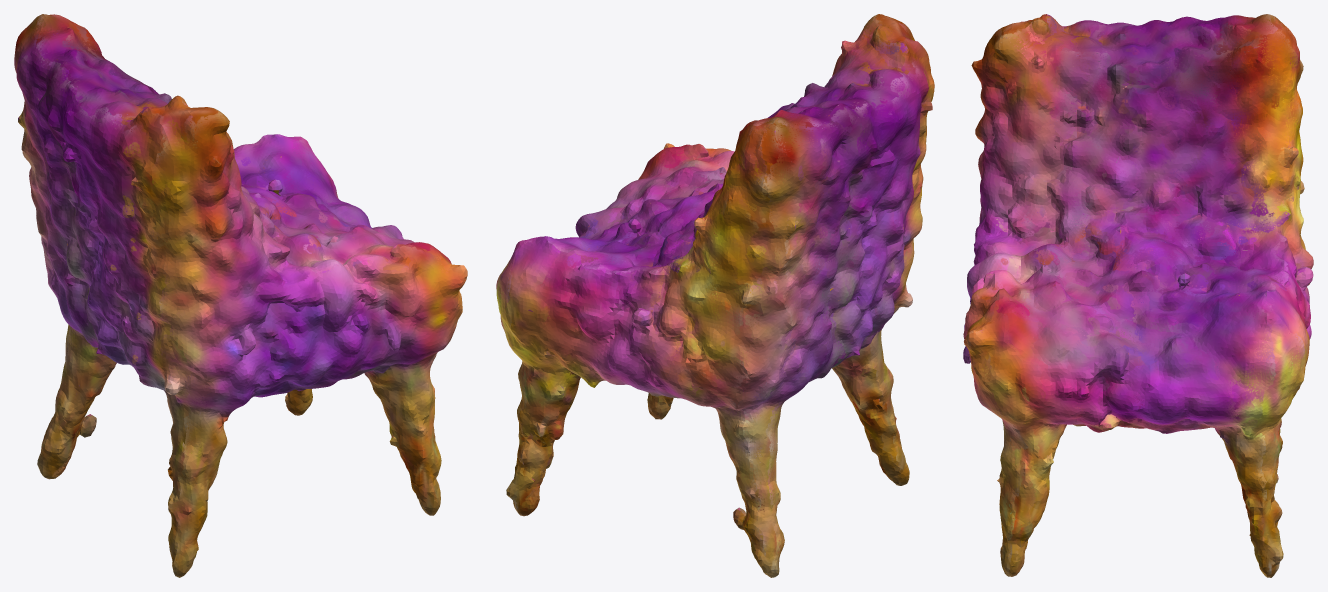
File: fire_chair_sds_a_t_shape.glb
3 views of the same model, side by side, from view 1: azimuth 30°, elevation 25°; view 2: azimuth 150°, elevation 25°; view 3: azimuth 270°, elevation 25° (orthographic). The views are drawn at different scales.
Size of the model in its own units: 1.4 by 1.84 by 1.3.
1 material, 1 textured.
